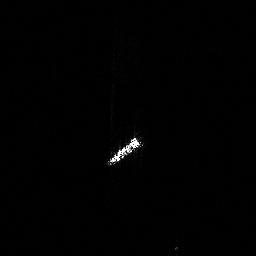ship: (109, 136, 143, 164)
